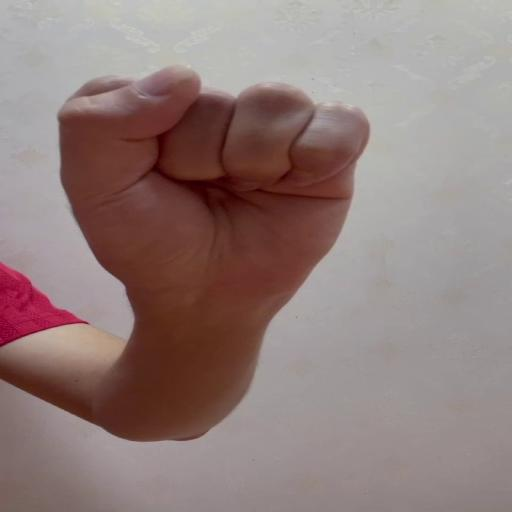fist: (57, 59, 371, 288)
